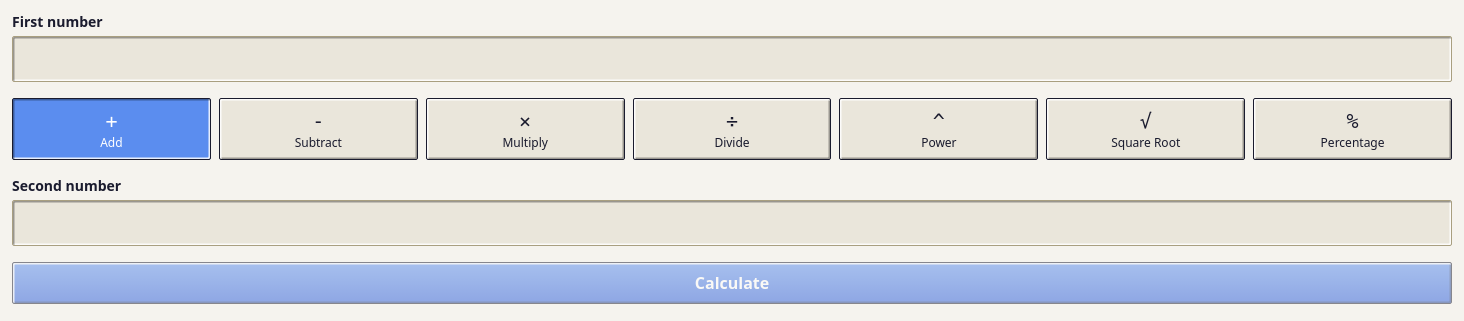
Test: Calculator › operations with one number › needs only one valid number to be enabled
Click the radio button labelled "Square Root".
click(1146, 129)  # box [1046,98,1245,160]
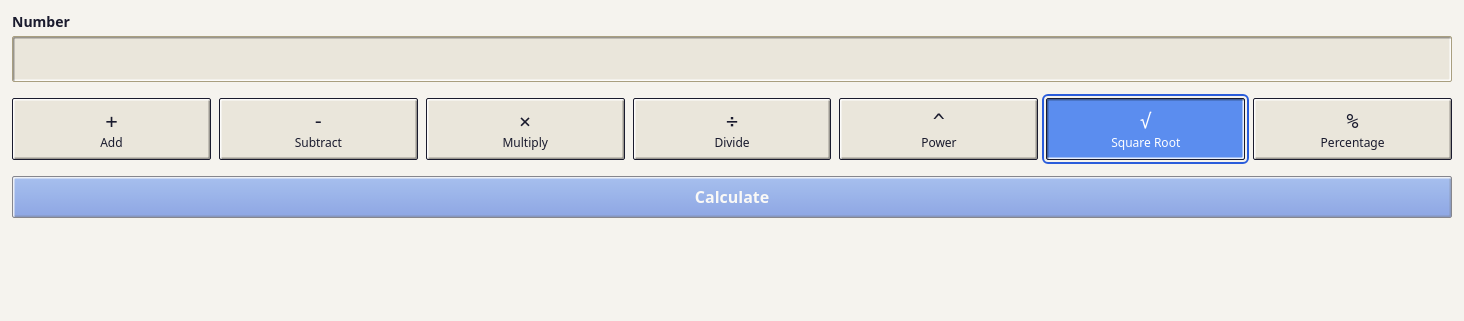
Type "16" into the field labelled "Number".
click(732, 59); type("16")  # box [12,36,1452,82]
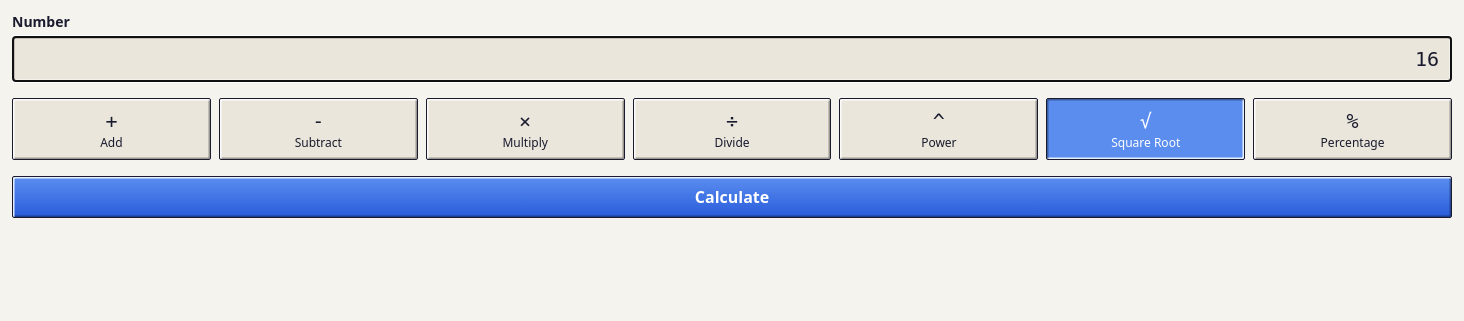
Check: the button "Calculate" is enabled, box [12,176,1452,218]
